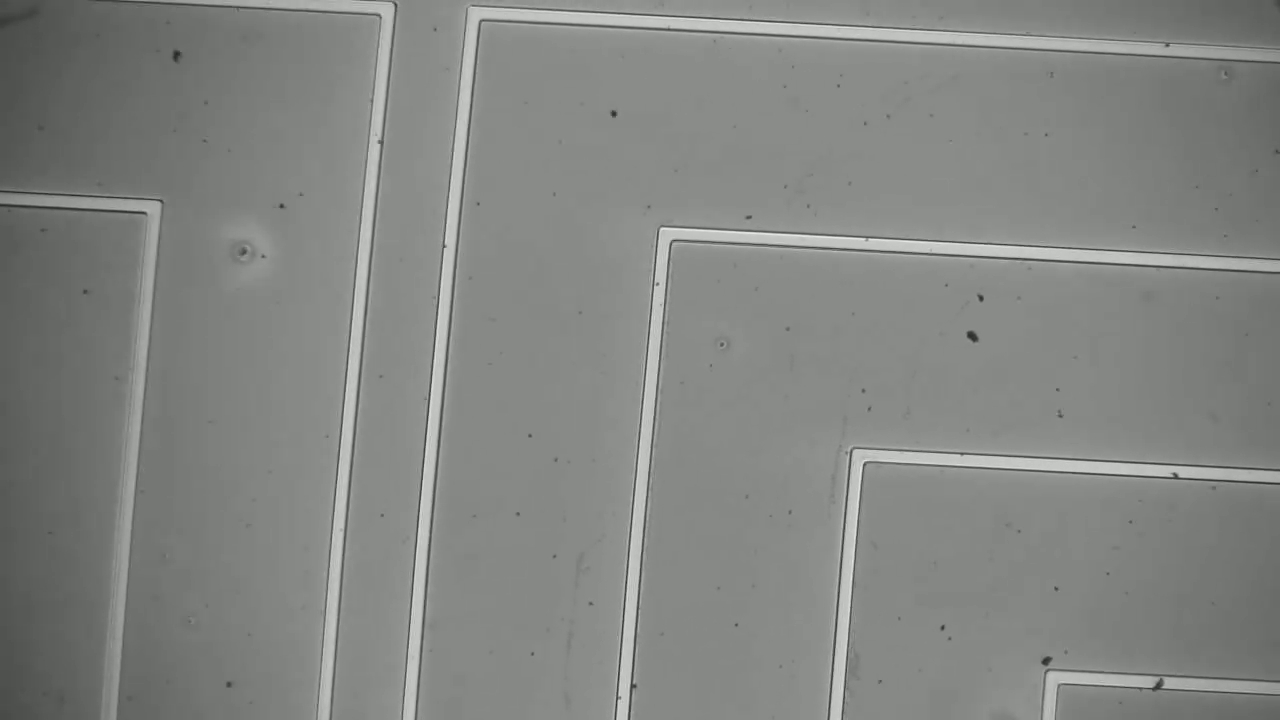stains_enbedded: (1145, 666, 1172, 699)
